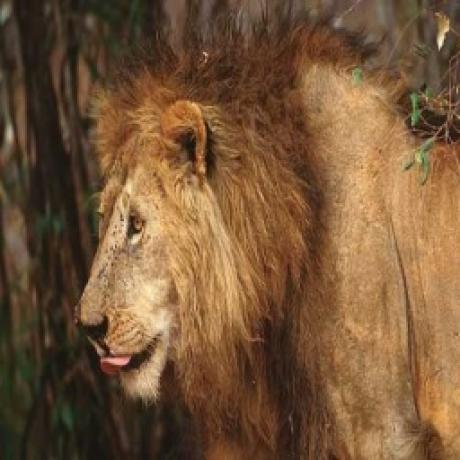Lion: (73, 5, 460, 460)
